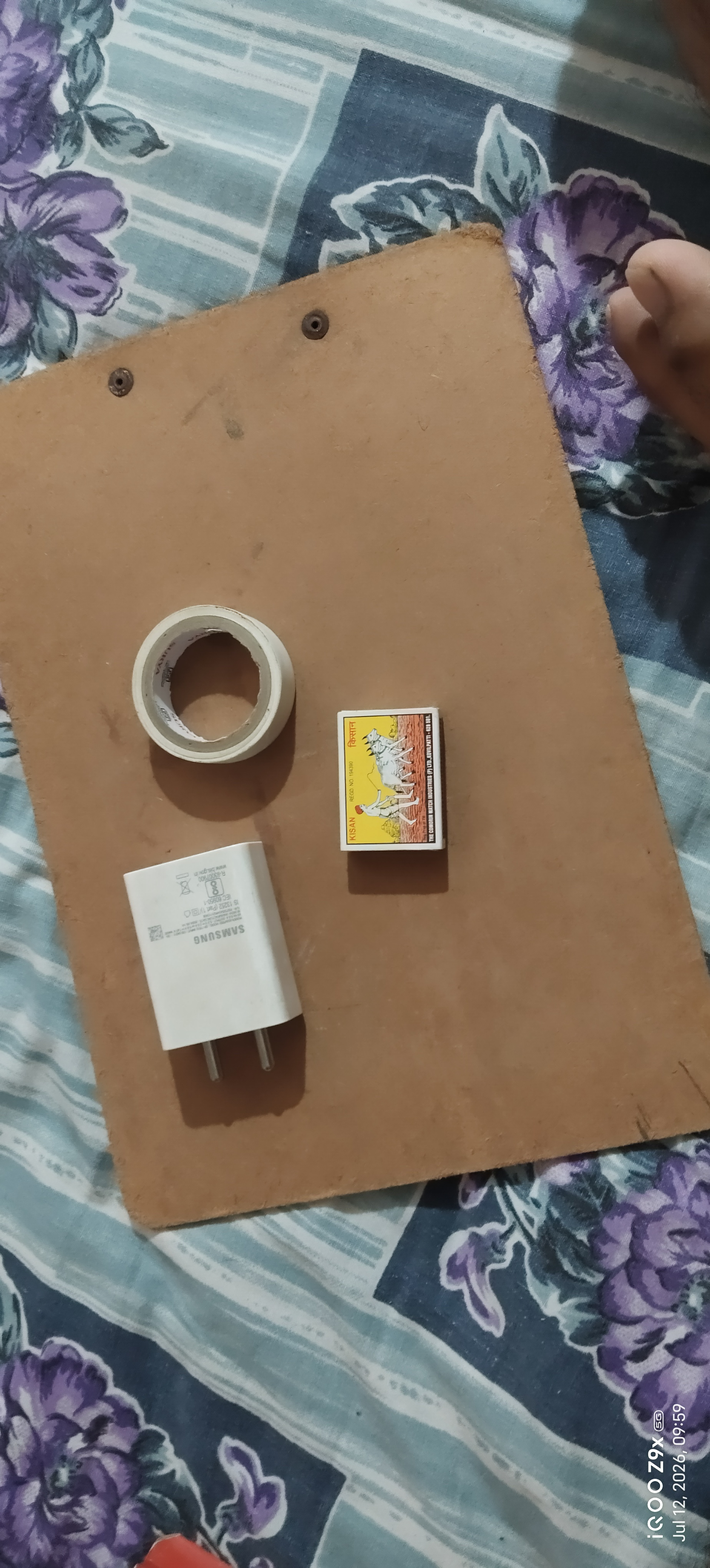charger: (117, 834, 314, 1099)
matchbox: (330, 696, 456, 869)
tape_roll: (120, 595, 309, 785)
